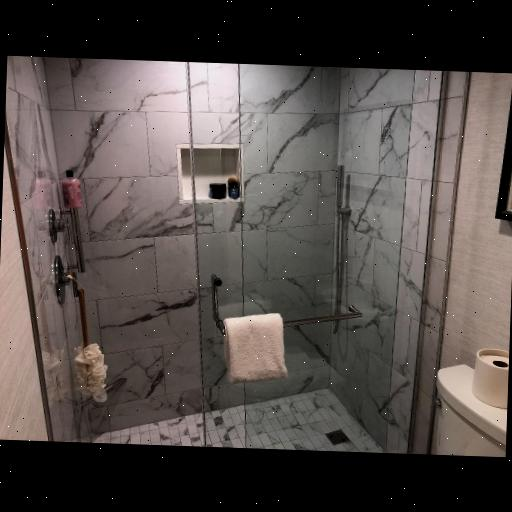clean shower: (7, 54, 443, 452)
folded_towel: (220, 313, 288, 384)
